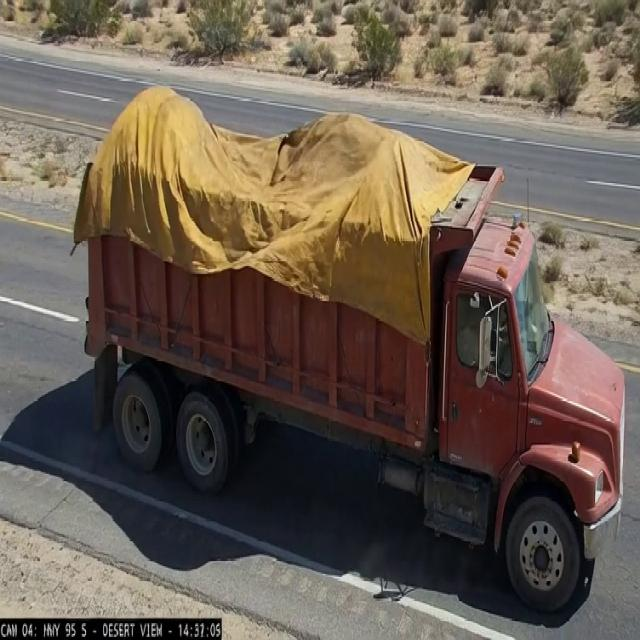Box: (78, 91, 522, 265)
Truck: (67, 86, 634, 601)
